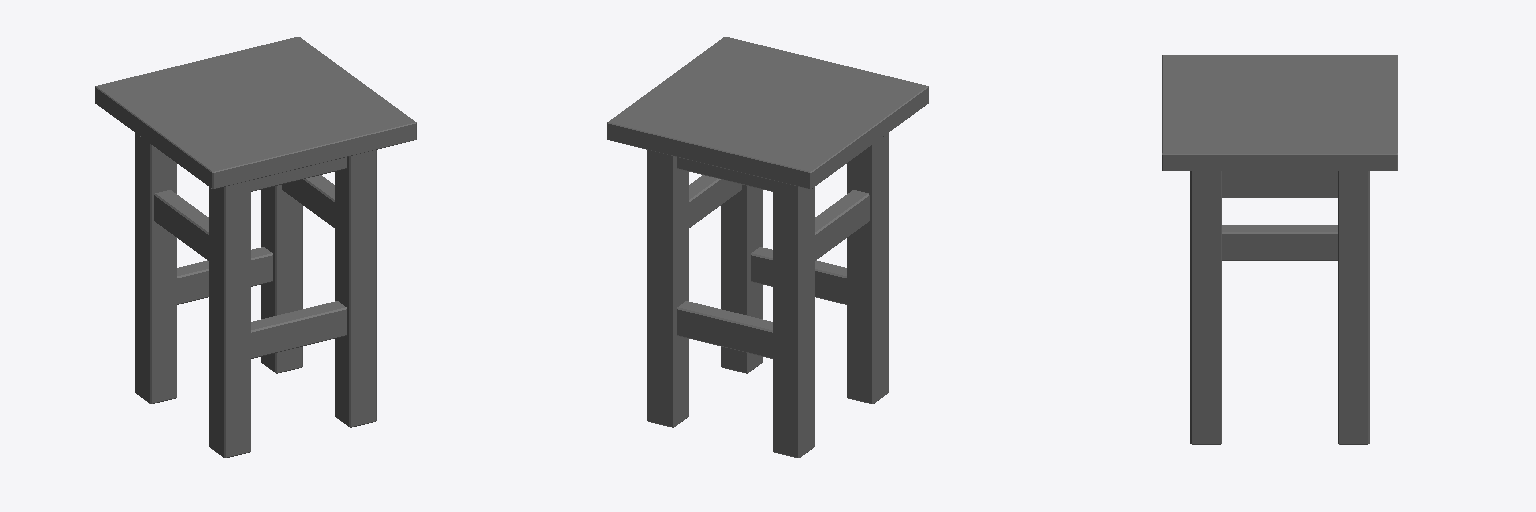
Rendered from chair.obj.
3 renders of one model, left to right at view 1: azimuth 30°, elevation 25°; view 2: azimuth 150°, elevation 25°; view 3: azimuth 270°, elevation 25°, orthographic.
Parts seen in each view (by area): view 1: chair_01; view 2: chair_01; view 3: chair_01.
Part boxes in pixels (x1,y1,x2,y2): chair_01: (95, 37, 416, 457); chair_01: (607, 37, 928, 457); chair_01: (1162, 55, 1397, 444).
Size of the model in its own units: 0.865 by 1.23 by 0.865.